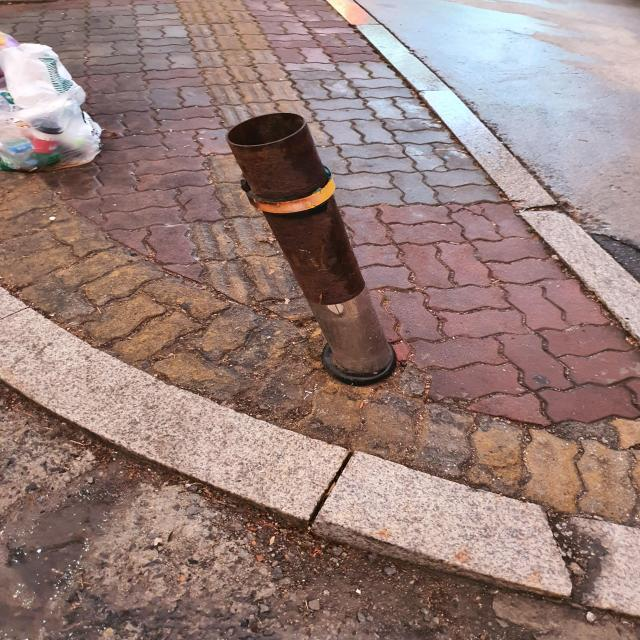pole: (227, 106, 402, 384)
